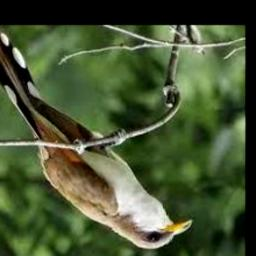Cuckoo: (0, 31, 191, 249)
